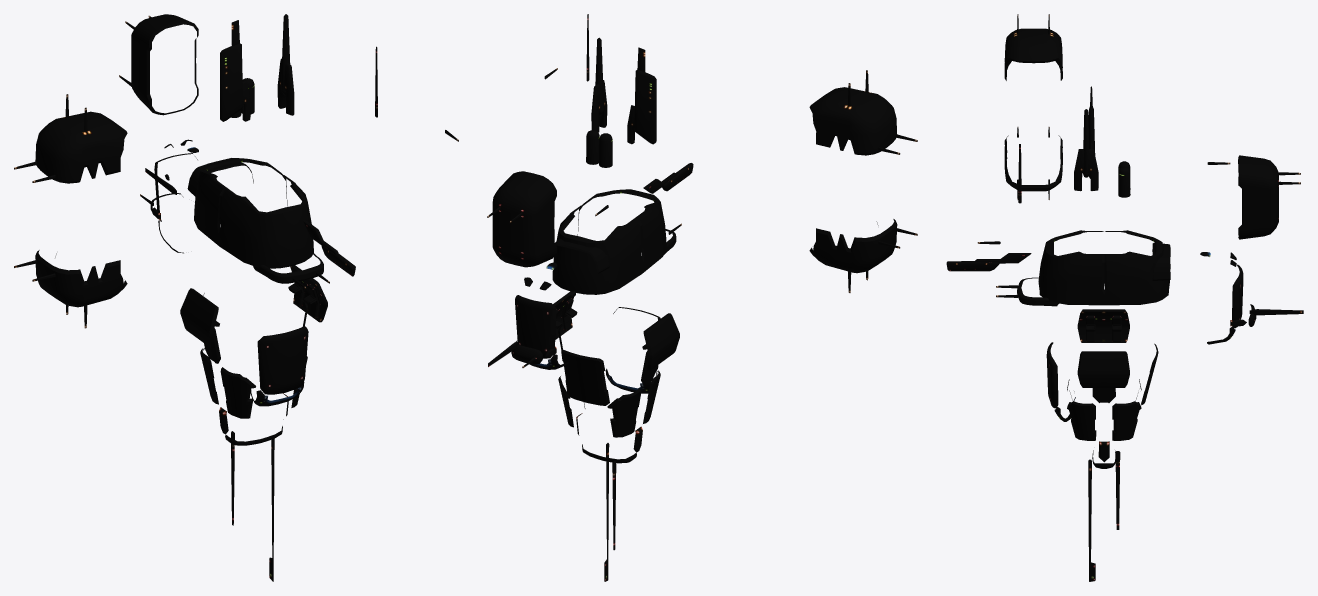
The model's file is yao_st_dock_05.glb.
3 renders of one model, left to right at view 1: azimuth 30°, elevation 25°; view 2: azimuth 150°, elevation 25°; view 3: azimuth 270°, elevation 25°, orthographic. The views are drawn at different scales.
Visible parts, largest first — view 1: yao_station_05_base_LOD0, yao_station_05_parts_LOD0; view 2: yao_station_05_base_LOD0, yao_station_05_parts_LOD0; view 3: yao_station_05_base_LOD0, yao_station_05_parts_LOD0.
Part boxes in pixels (<box>): yao_station_05_base_LOD0: <box>35,14,323,445</box>; yao_station_05_parts_LOD0: <box>14,14,458,581</box>; yao_station_05_base_LOD0: <box>492,87,897,463</box>; yao_station_05_parts_LOD0: <box>487,14,917,581</box>; yao_station_05_base_LOD0: <box>1004,28,1278,468</box>; yao_station_05_parts_LOD0: <box>946,14,1303,581</box>.
Size of what is drawn, in the model's own units: 41.72 by 56.3 by 37.95.
2 materials, 2 textured.
